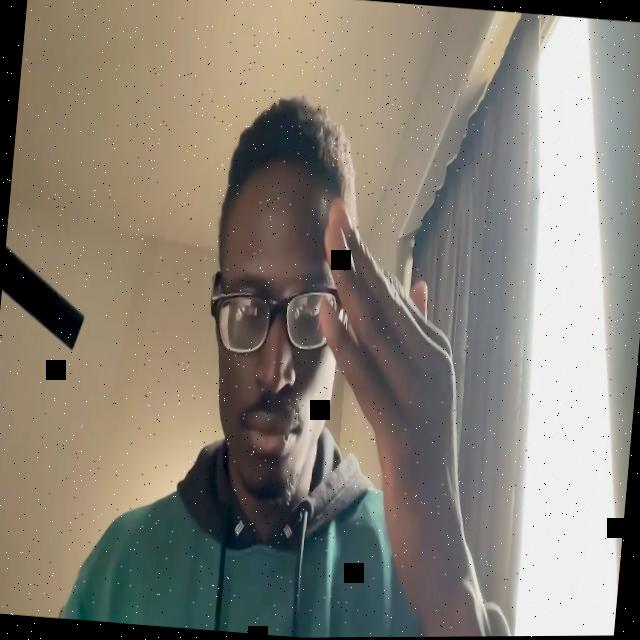Paper: (291, 197, 499, 606)
